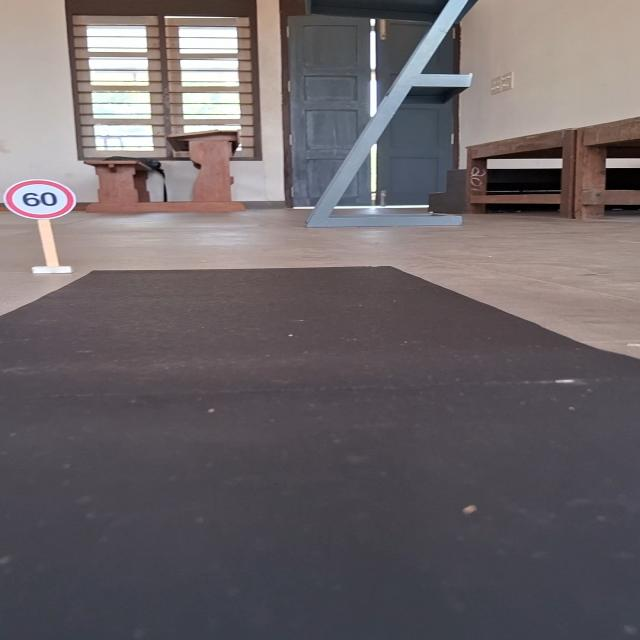Speed60: (3, 179, 78, 221)
